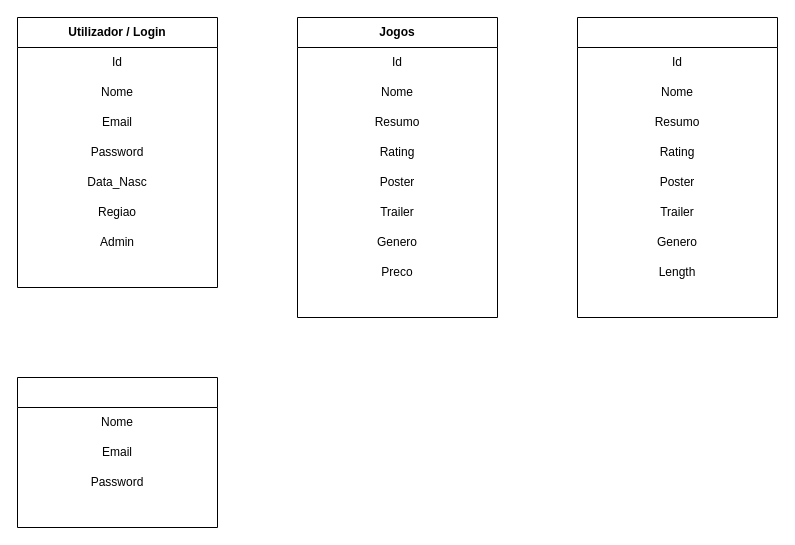
This 795x545 diagram has some shape labels left out. Here are the shapes that lost their labels. From the top down, the box of each, then its label:
(576, 16, 778, 318): Filmes
(16, 376, 218, 528): Website / Login
